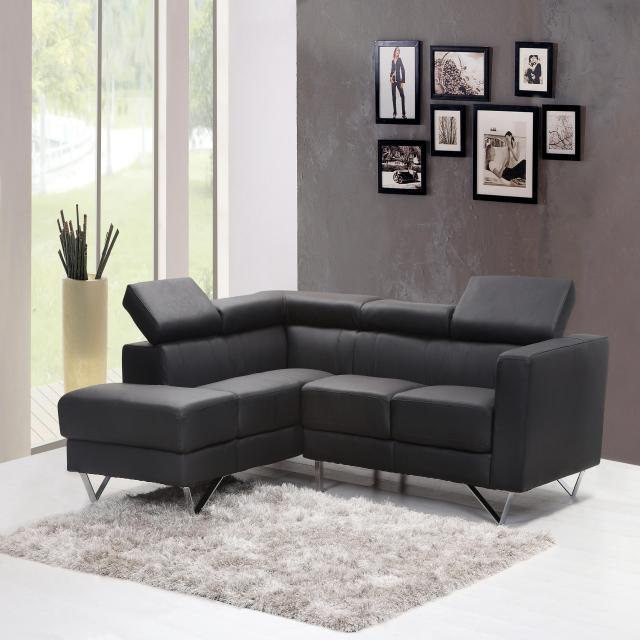sofa: (43, 260, 610, 540)
